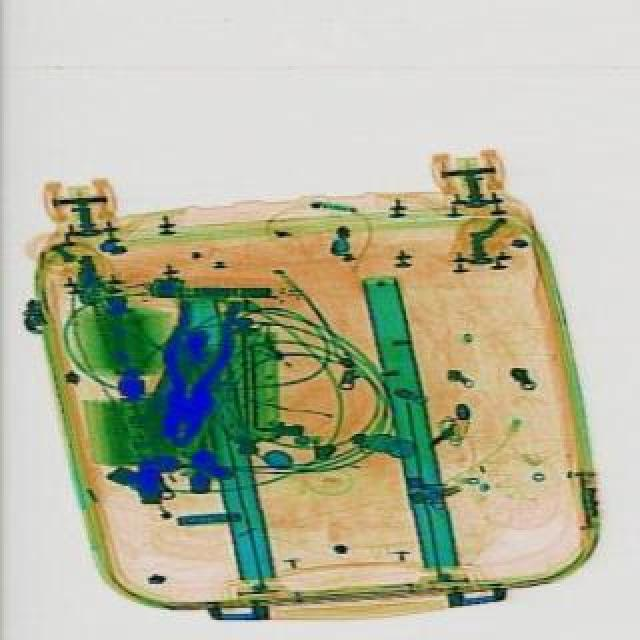wrench: (142, 290, 240, 450)
